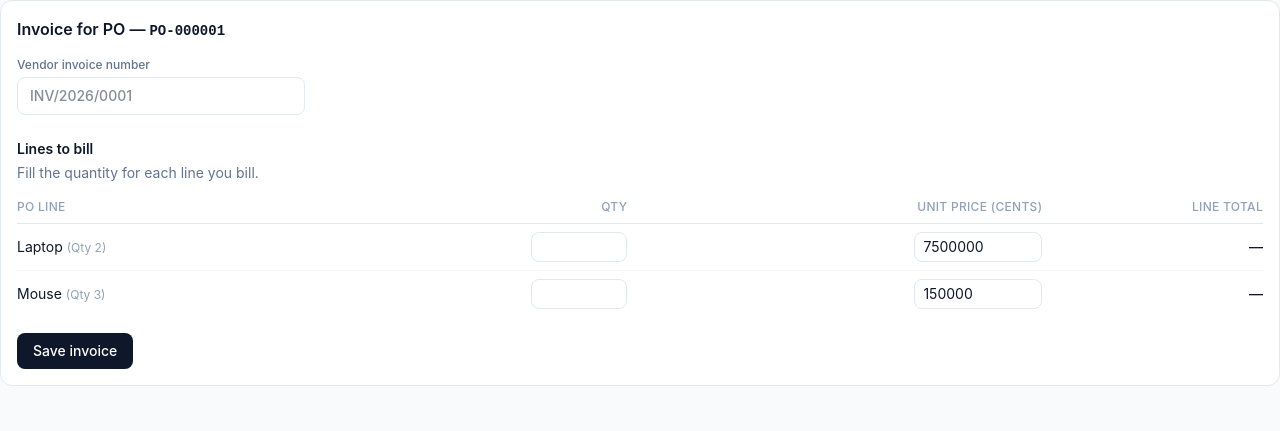
Test case: InvoiceForm › renders the pinned 409 inv_over_bill numbers inline
This screenshot has width=1280, height=431.
In the field with test id "invoice-number": x=161, y=96 [17,77,305,115], type "INV-1"
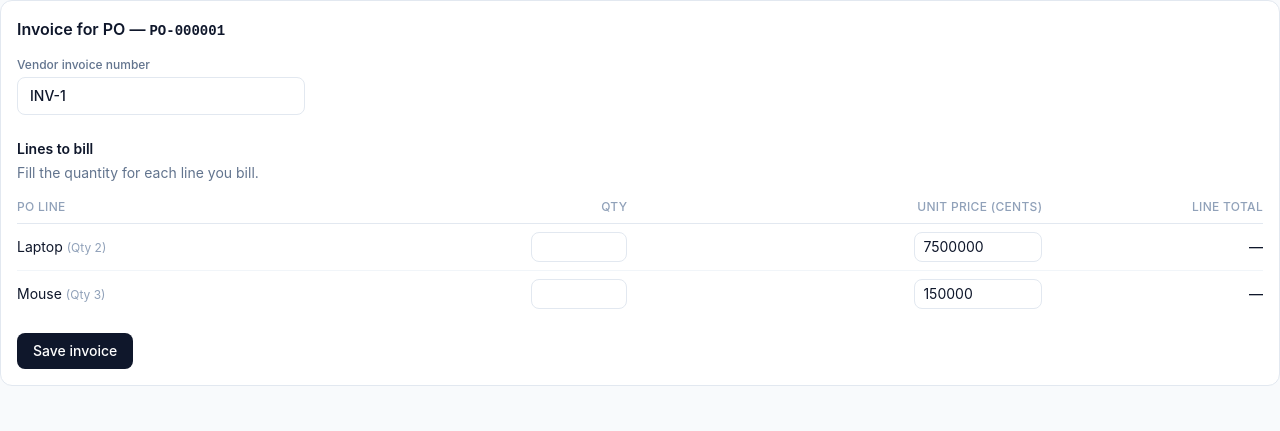
In the number field with test id "invoice-qty-po-item-1": x=579, y=247 [531,232,627,262], type "1"
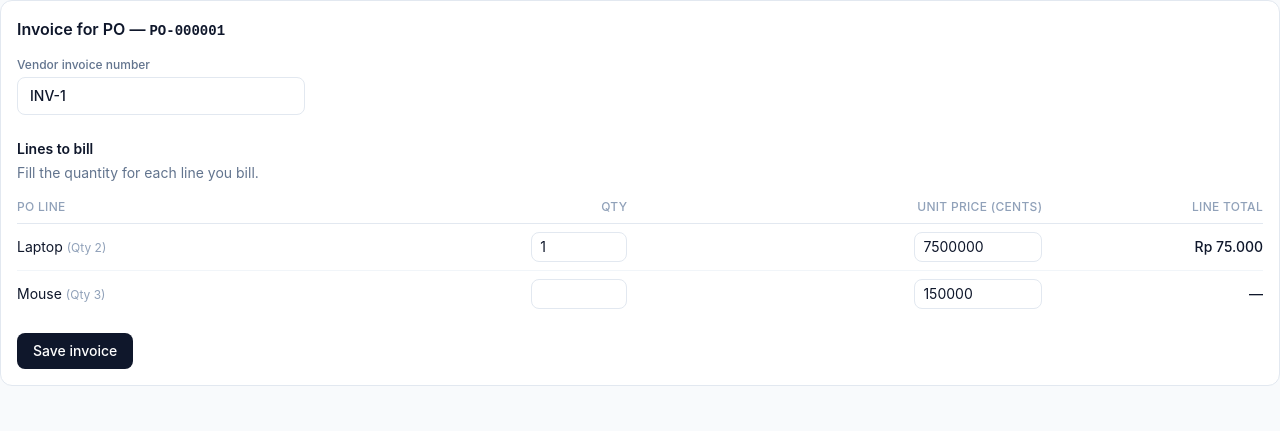
Click the button with test id "invoice-submit": x=75, y=351 [17,333,133,369]
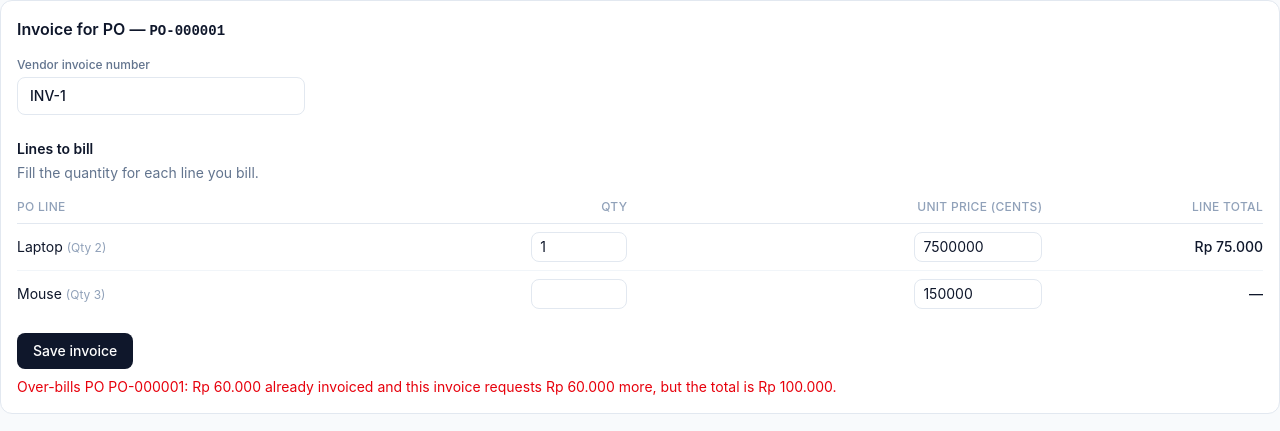
Now the message with test id "invoice-form-error" shows "Over-bills PO PO-000001: Rp 60.000 already invoiced and this invoice requests Rp 60.000 more, but the total is Rp 100.000.", box [17,378,837,395]
